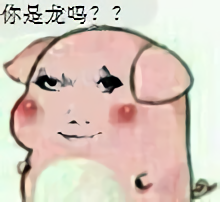dragon: (33, 67, 126, 145)
